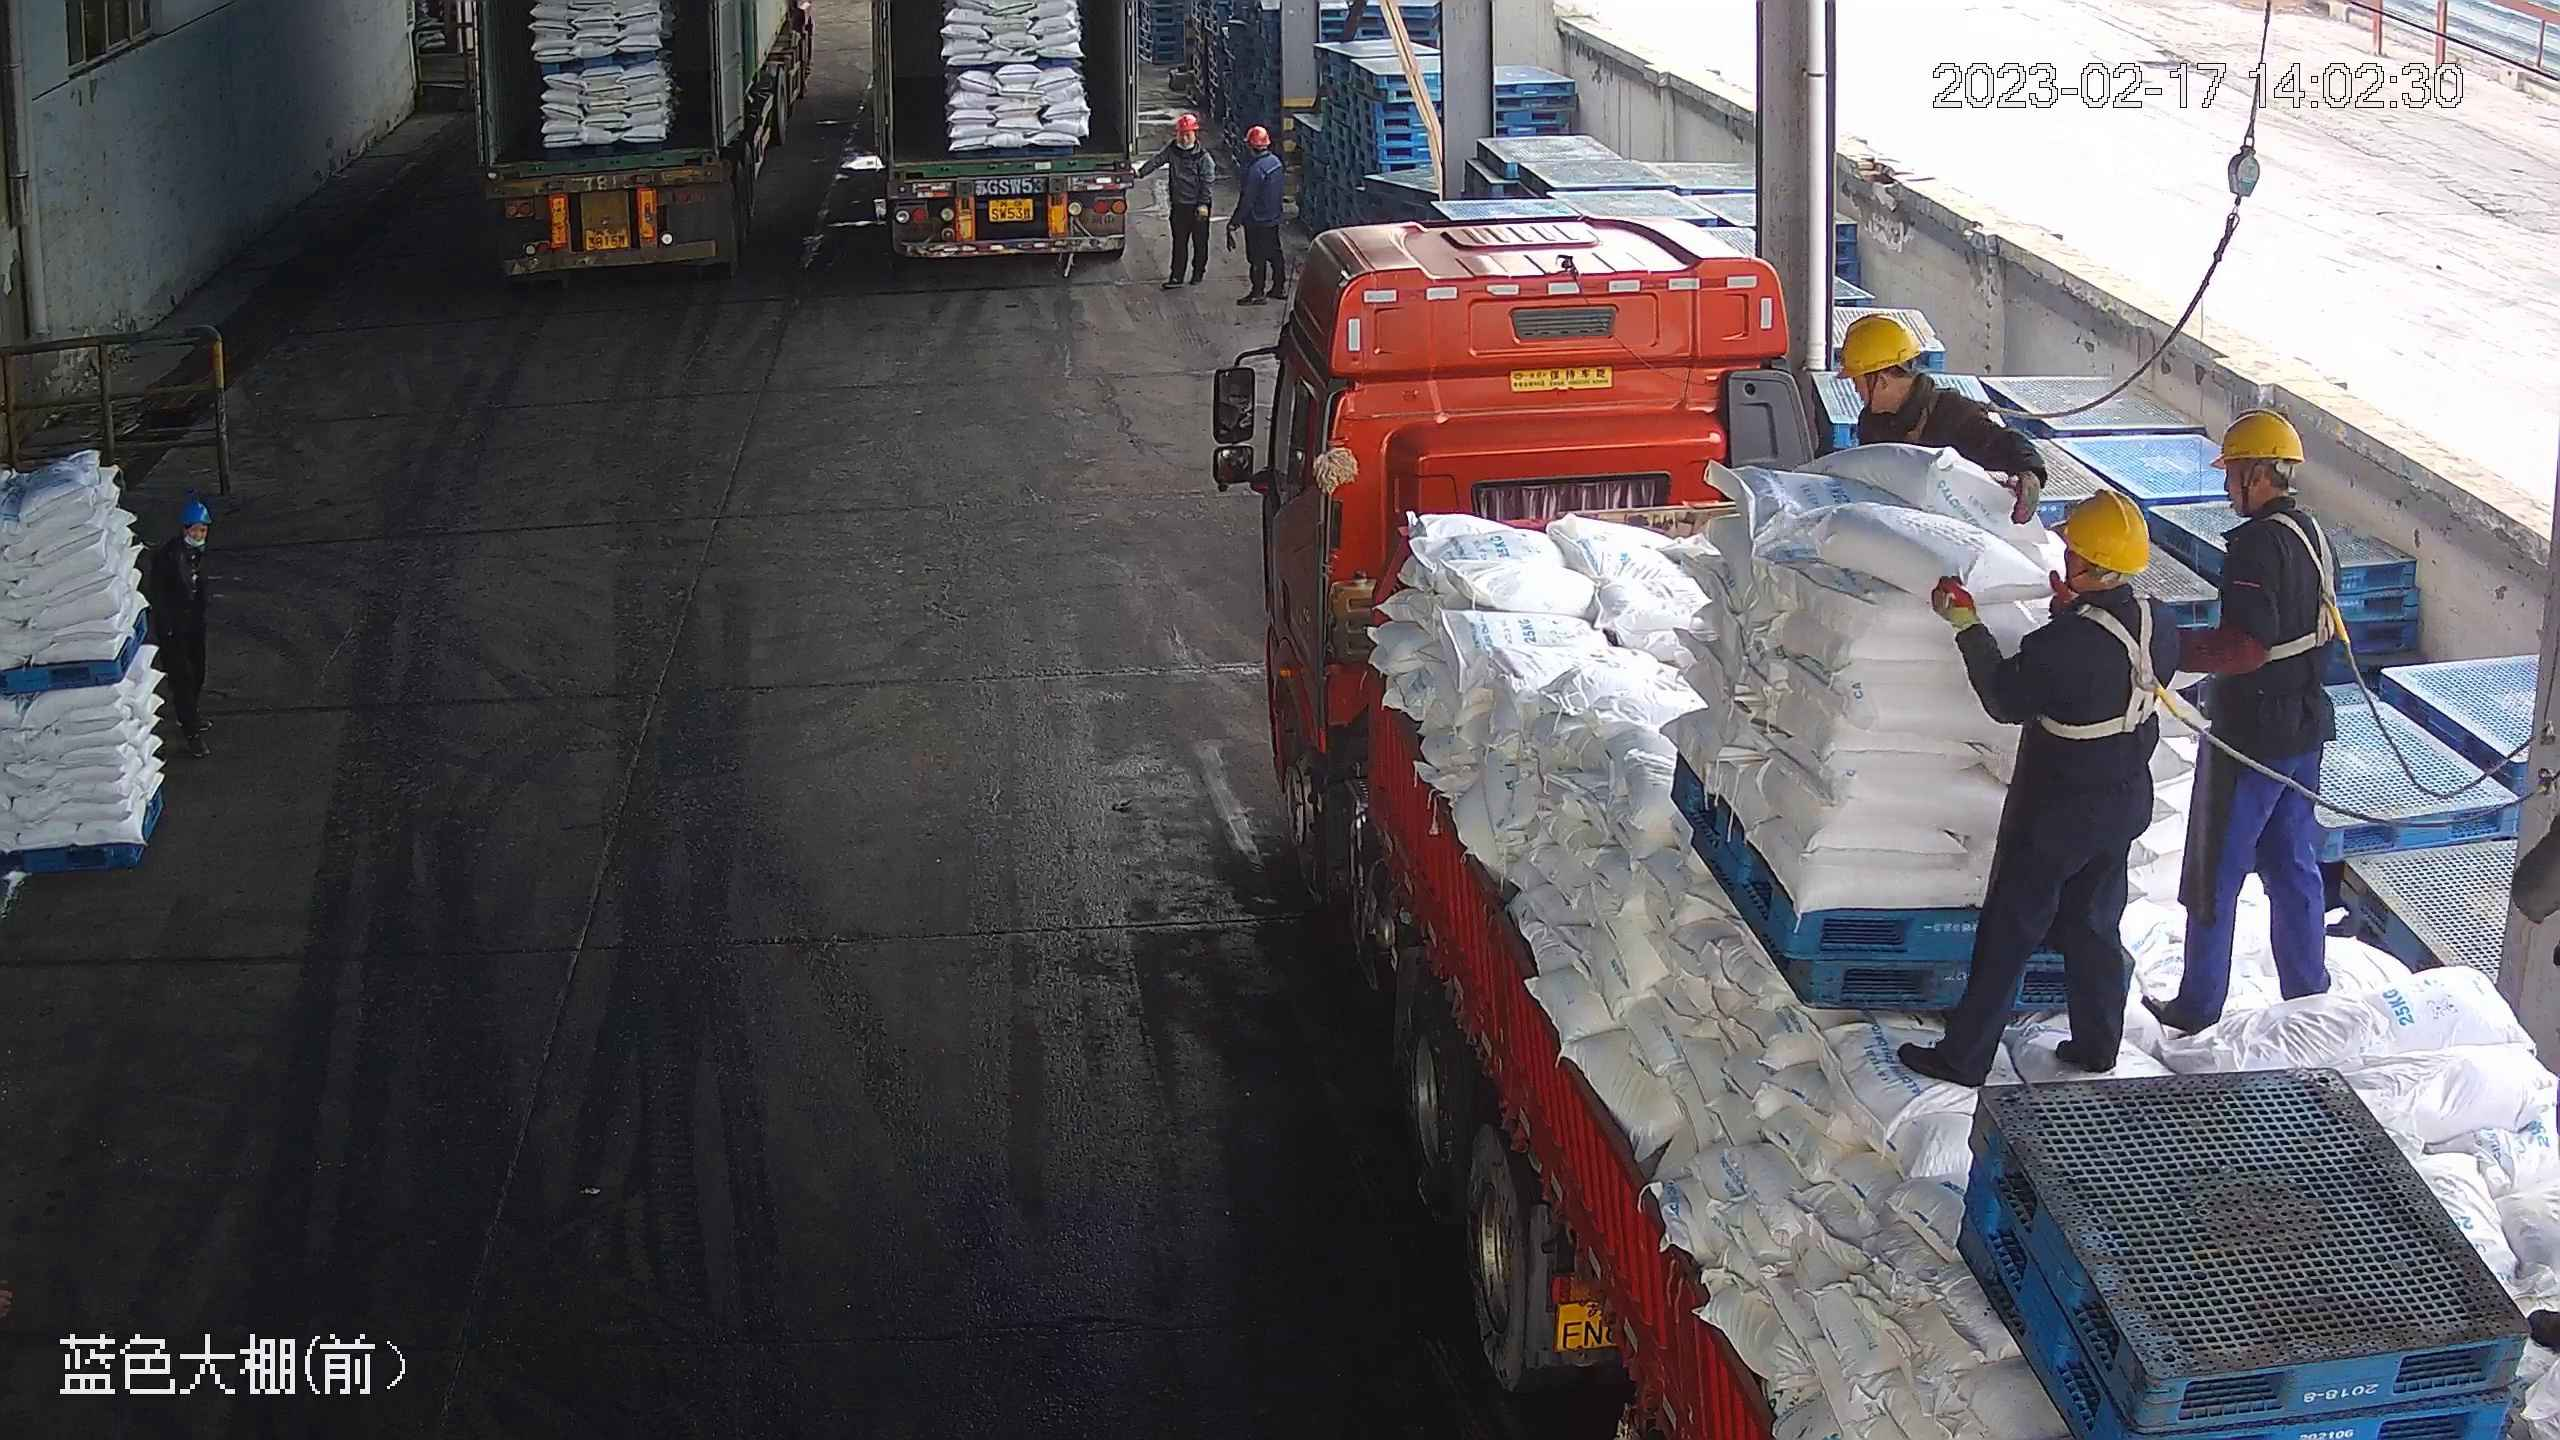belt: (2034, 591, 2173, 743), (2237, 505, 2353, 662), (1878, 383, 1948, 450)
head: (1960, 488, 2175, 687), (2198, 406, 2347, 592), (1834, 310, 2002, 446), (1234, 126, 1284, 182), (1162, 113, 1213, 166)
helmet: (2056, 487, 2150, 577), (2210, 405, 2307, 468), (1833, 310, 1924, 377), (1242, 125, 1269, 148), (1174, 113, 1200, 132)
people: (1903, 494, 2178, 1085), (2147, 409, 2349, 1026), (1152, 113, 1216, 289), (1233, 126, 1285, 307)
truck: (1225, 197, 2556, 1439), (477, 1, 822, 280), (846, 6, 1146, 303)
